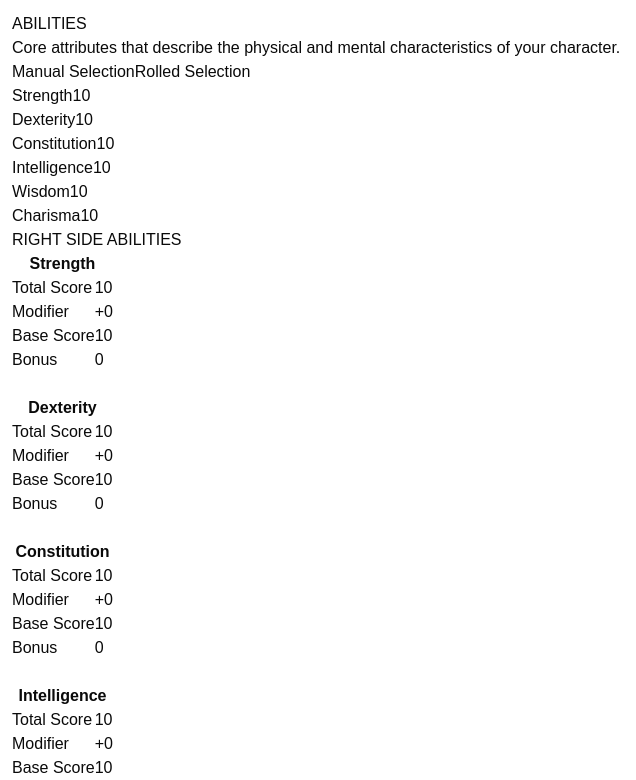
Abilities: manual selection › Typed values results in expected Base Values
Type "12.7" into the number field labelled "Strength" at (100, 96), box [72,84,128,108]
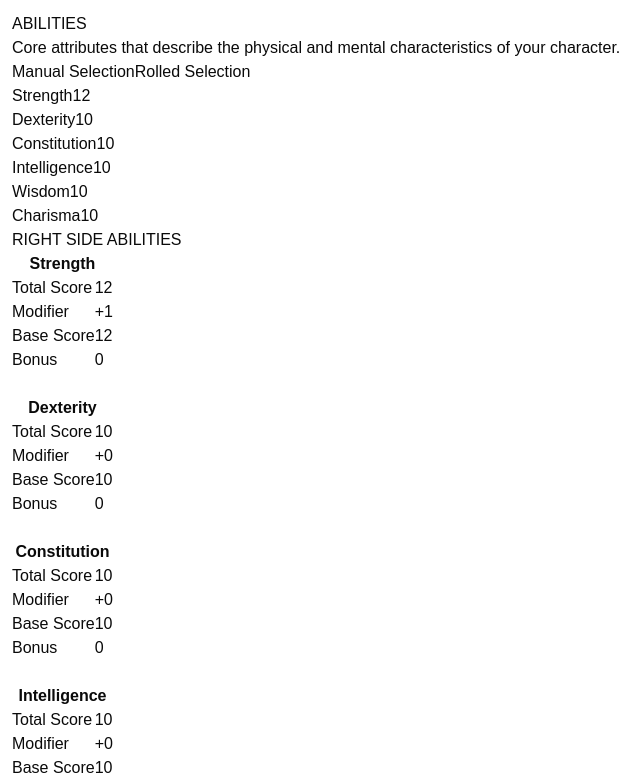
Result: the number field labelled "Strength" holds "12" at [72,84,128,108]
